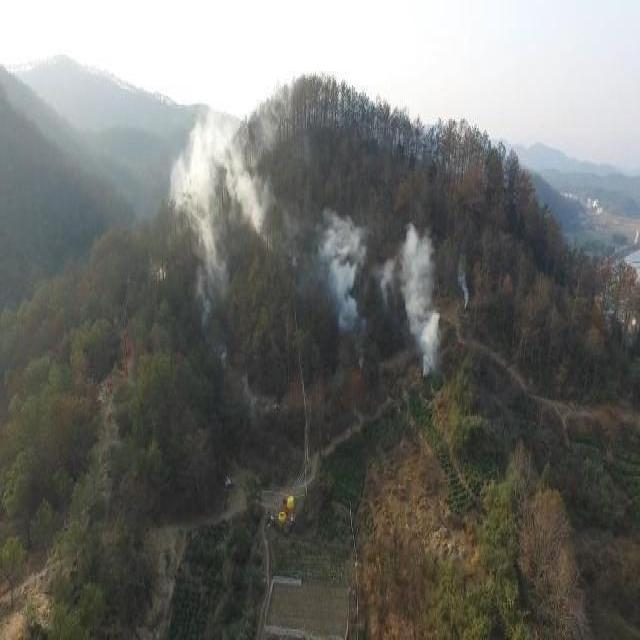Smoke: (165, 67, 442, 377), (456, 258, 470, 310)
